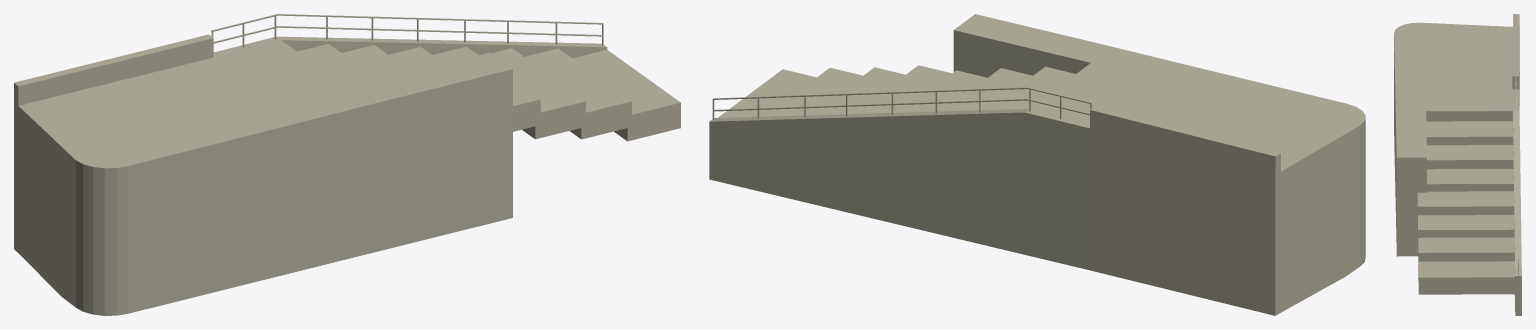
Rendered from Aarenmauer_Treppe.fbx.
3 views of the same model, side by side, from view 1: azimuth 30°, elevation 25°; view 2: azimuth 150°, elevation 25°; view 3: azimuth 270°, elevation 25° (orthographic). The views are drawn at different scales.
Visible parts, largest first — view 1: Cube.8872, Cube.169, Cube.8873; view 2: Cube.8872, Cube.169, Cube.8873; view 3: Cube.8872, Cube.169, Cube.8873.
Part boxes in pixels (<box>): Cube.8872: <box>14,34,607,315</box>; Cube.169: <box>297,44,680,141</box>; Cube.8873: <box>211,14,603,47</box>; Cube.8872: <box>709,14,1365,315</box>; Cube.169: <box>718,65,1075,117</box>; Cube.8873: <box>712,87,1091,119</box>; Cube.8872: <box>1394,14,1521,315</box>; Cube.169: <box>1417,121,1515,294</box>; Cube.8873: <box>1515,73,1518,274</box>.
Bounding box in the file's own units: 2642 × 723 × 729.
